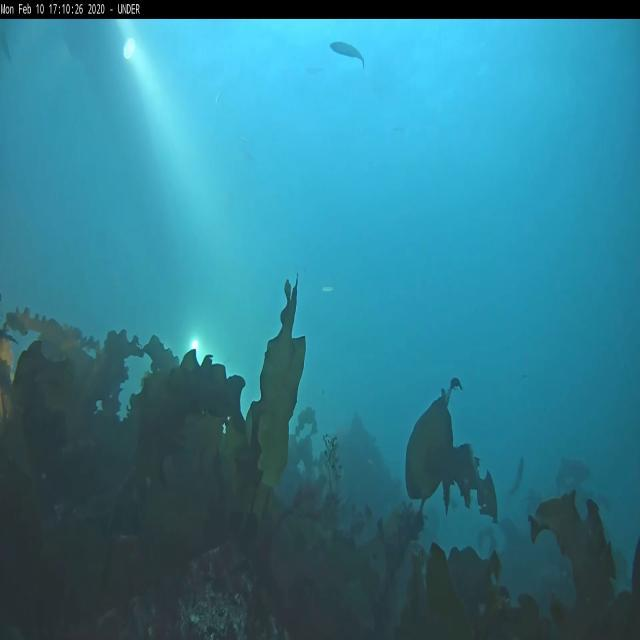fish: (331, 39, 364, 69)
